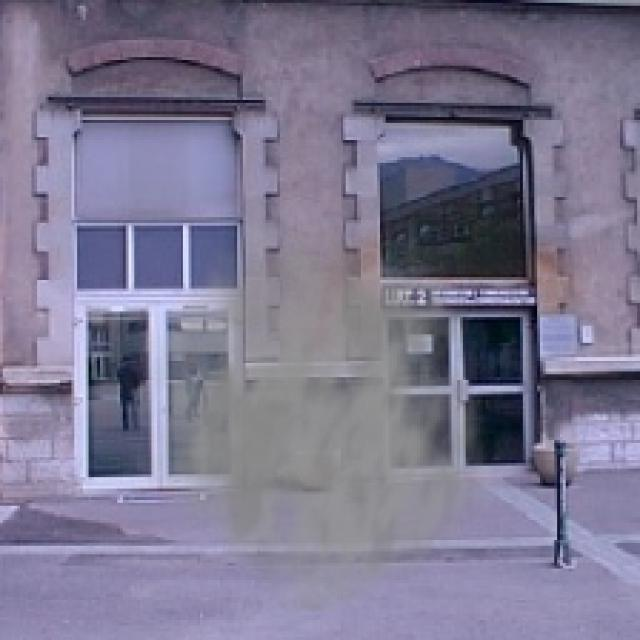smoke: (129, 192, 497, 617)
